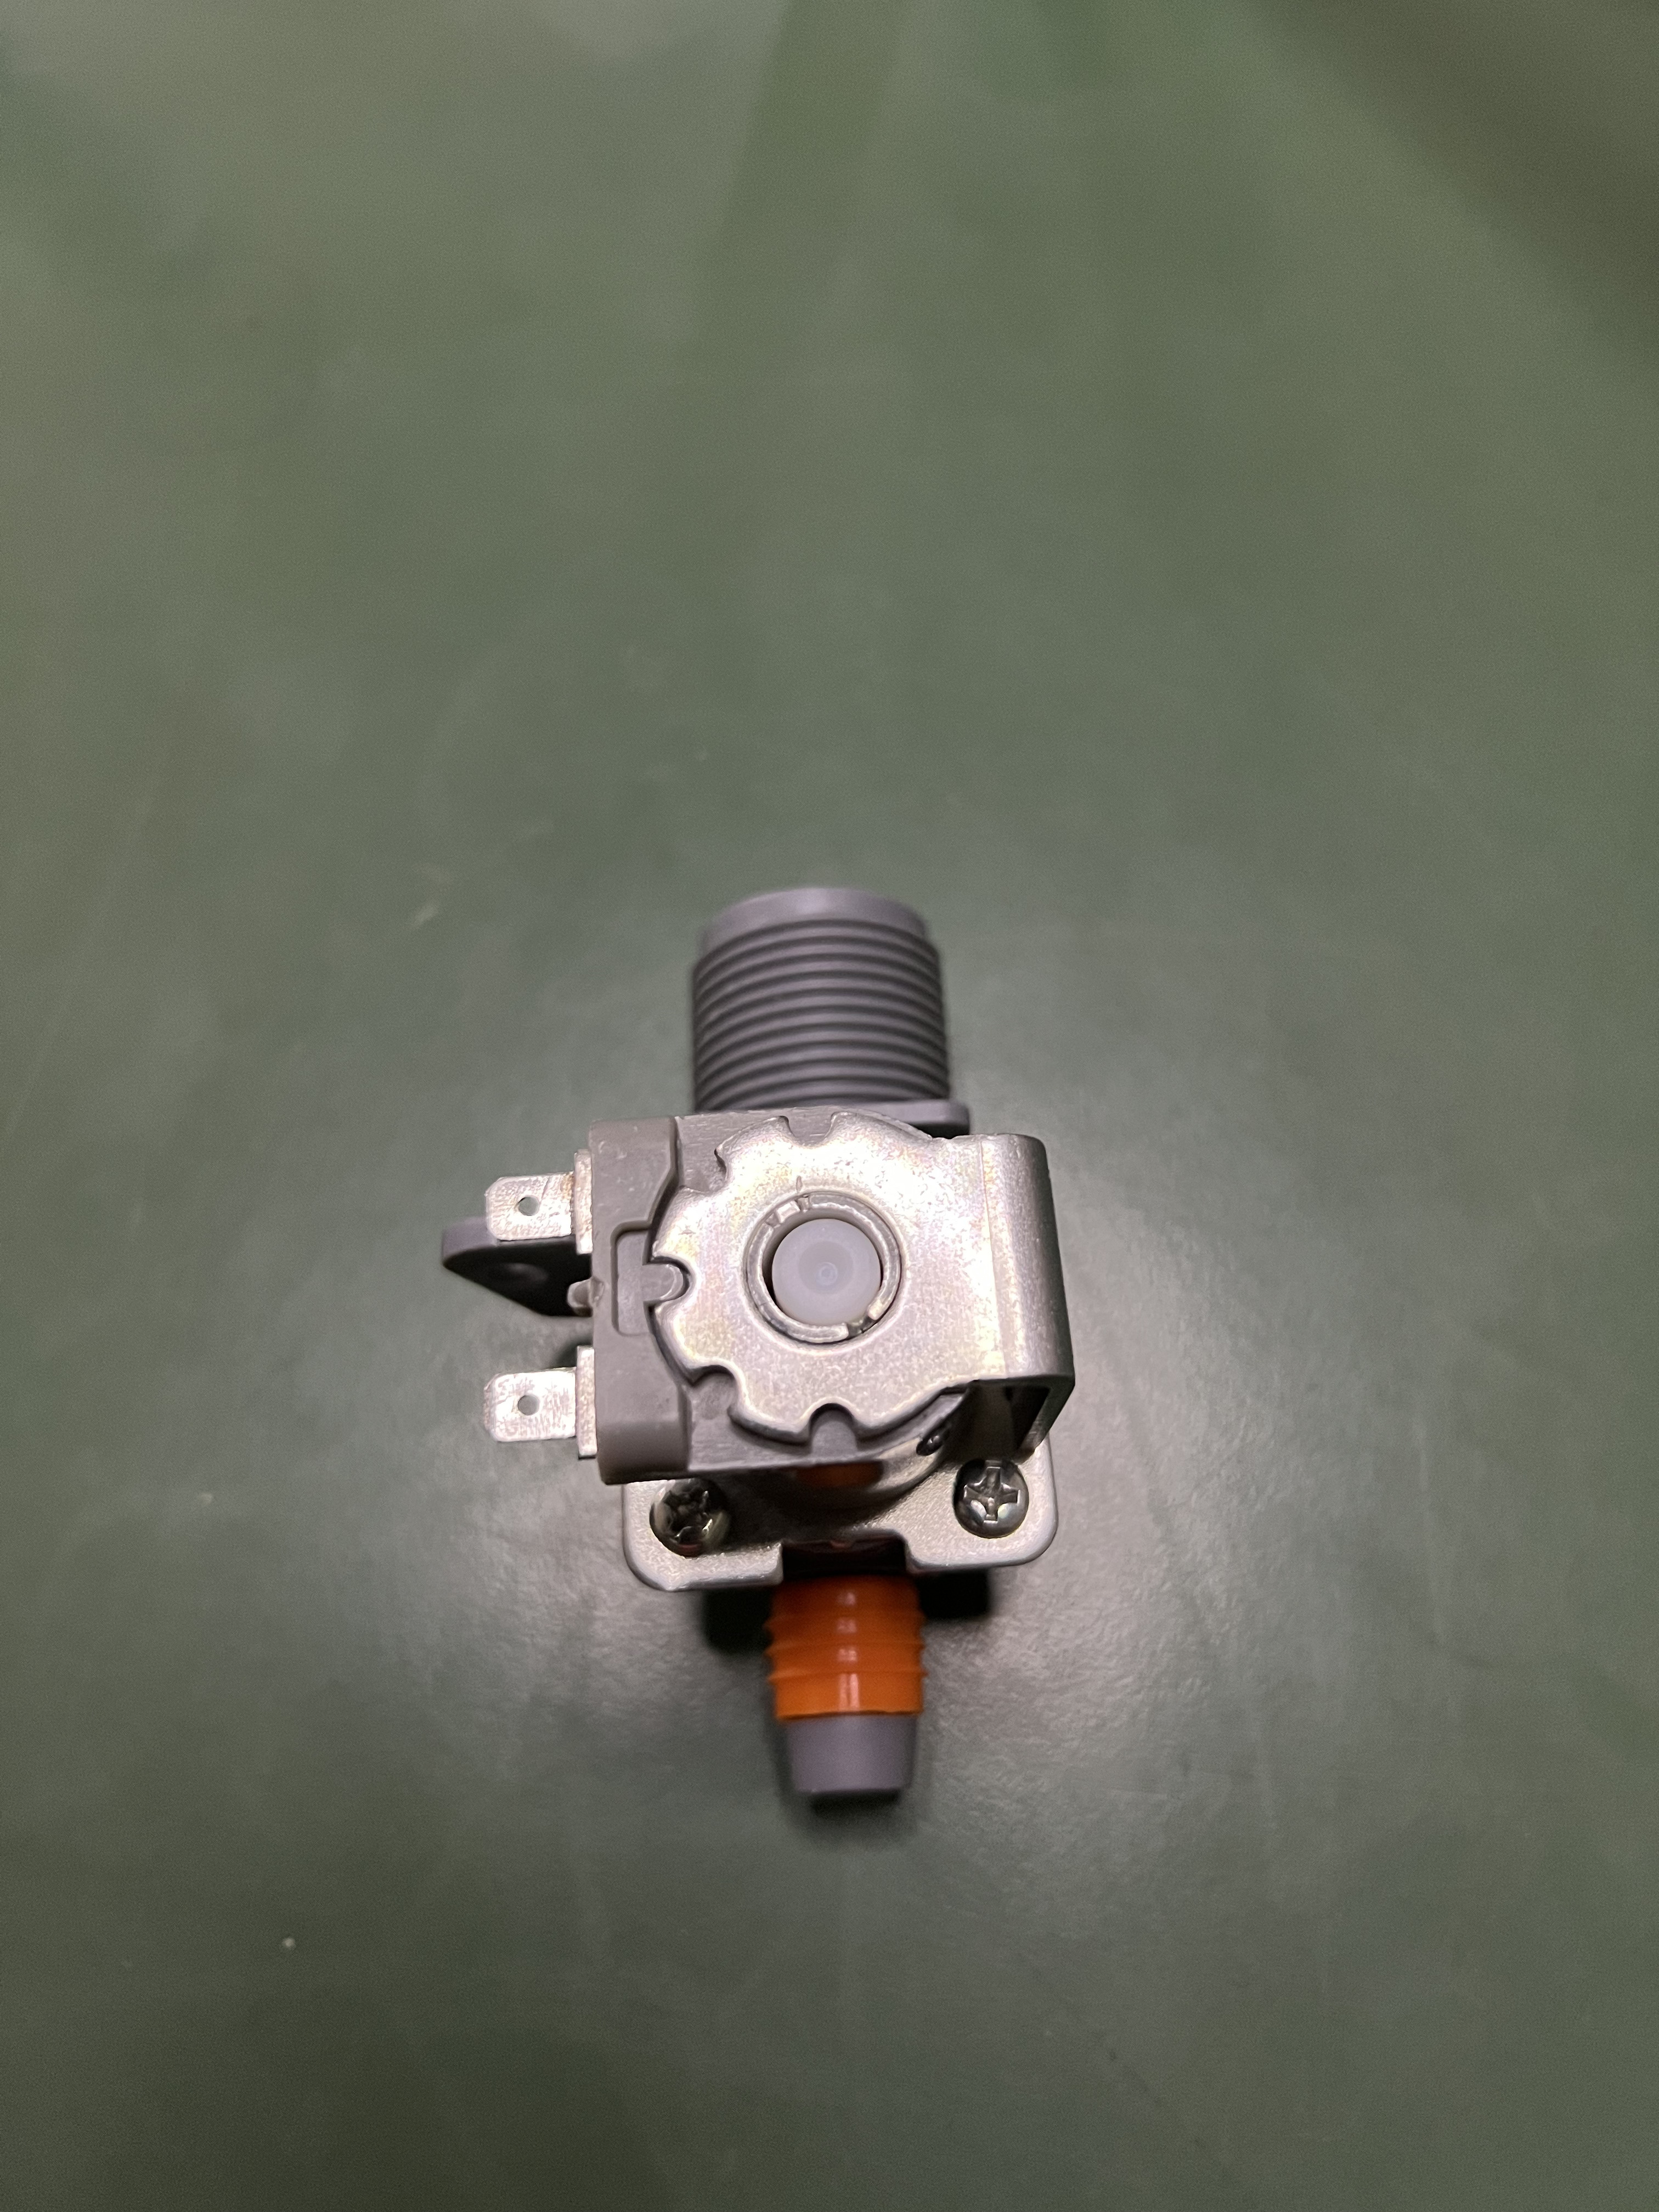inlet_valves: (396, 890, 1136, 1844)
